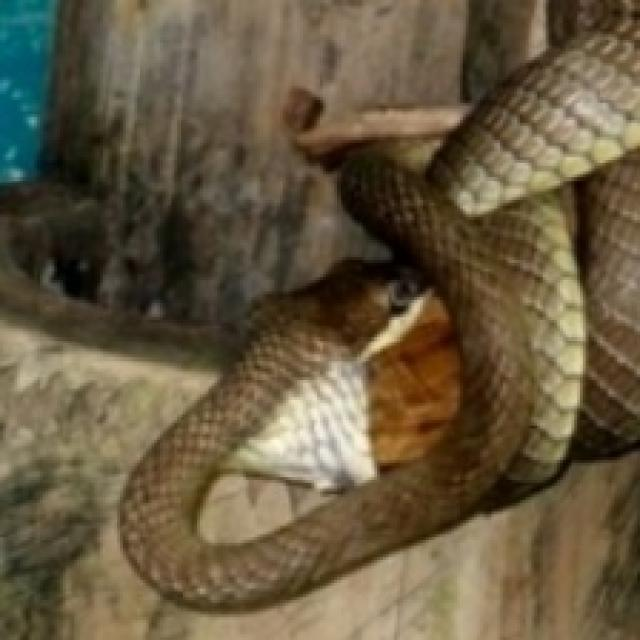paradise tree snake: (120, 0, 637, 609)
